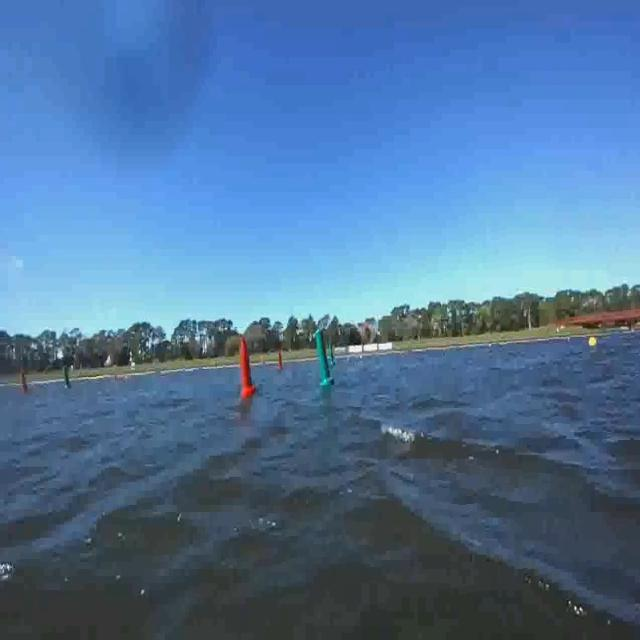green-column-buoy: (315, 331, 335, 389), (62, 364, 73, 391)
red-column-buoy: (238, 338, 256, 396), (18, 365, 29, 395), (278, 351, 284, 370)
yellow-buoy: (589, 336, 598, 350)
